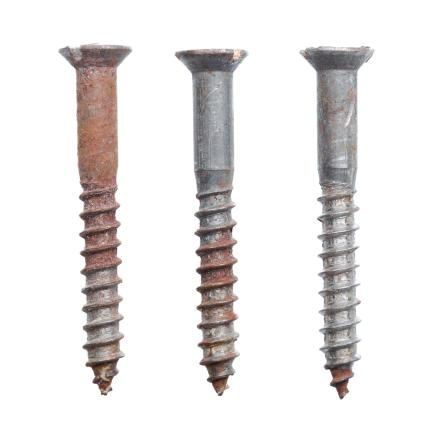karat: (78, 69, 120, 276), (202, 235, 236, 294), (331, 366, 352, 399)
